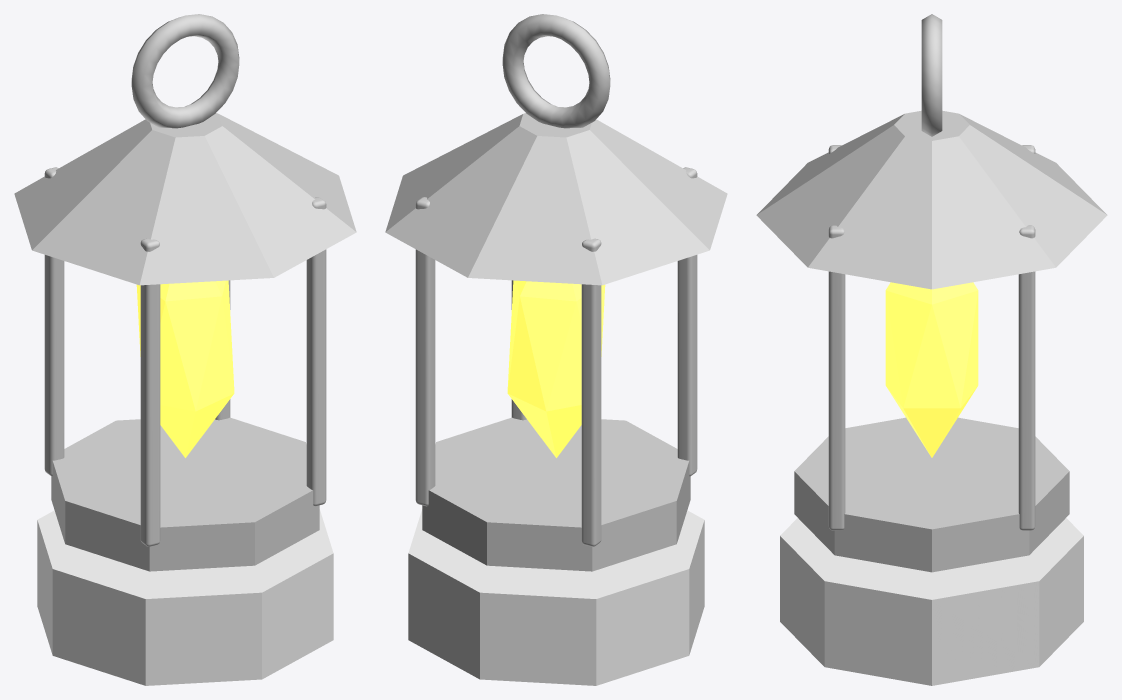
File: AS_25_Lantern_Ember.glb
3 views of the same model, side by side, from view 1: azimuth 30°, elevation 25°; view 2: azimuth 150°, elevation 25°; view 3: azimuth 270°, elevation 25° (orthographic).
Parts seen in each view (by area): view 1: AS_25_Lantern_Ember__lantern roof, AS_25_Lantern_Ember__foot, AS_25_Lantern_Ember__base, AS_25_Lantern_Ember__ember crystal, AS_25_Lantern_Ember__carry loop, AS_25_Lantern_Ember__frame.001, AS_25_Lantern_Ember__frame.003, AS_25_Lantern_Ember__frame.002; view 2: AS_25_Lantern_Ember__lantern roof, AS_25_Lantern_Ember__foot, AS_25_Lantern_Ember__base, AS_25_Lantern_Ember__ember crystal, AS_25_Lantern_Ember__carry loop, AS_25_Lantern_Ember__frame.002, AS_25_Lantern_Ember__frame, AS_25_Lantern_Ember__frame.001; view 3: AS_25_Lantern_Ember__lantern roof, AS_25_Lantern_Ember__foot, AS_25_Lantern_Ember__base, AS_25_Lantern_Ember__ember crystal, AS_25_Lantern_Ember__frame.003, AS_25_Lantern_Ember__frame, AS_25_Lantern_Ember__carry loop.
Part boxes in pixels (x1,y1,x2,y2): AS_25_Lantern_Ember__lantern roof: (14,107,356,285); AS_25_Lantern_Ember__foot: (37,509,333,685); AS_25_Lantern_Ember__base: (51,417,319,571); AS_25_Lantern_Ember__ember crystal: (136,280,234,457); AS_25_Lantern_Ember__carry loop: (131,14,239,128); AS_25_Lantern_Ember__frame.001: (140,238,160,546); AS_25_Lantern_Ember__frame.003: (306,197,326,506); AS_25_Lantern_Ember__frame.002: (44,167,64,476); AS_25_Lantern_Ember__lantern roof: (385,107,727,285); AS_25_Lantern_Ember__foot: (408,509,704,685); AS_25_Lantern_Ember__base: (422,417,690,571); AS_25_Lantern_Ember__ember crystal: (507,280,605,457); AS_25_Lantern_Ember__carry loop: (502,14,610,128); AS_25_Lantern_Ember__frame.002: (581,238,601,546); AS_25_Lantern_Ember__frame: (415,197,435,506); AS_25_Lantern_Ember__frame.001: (677,167,697,476); AS_25_Lantern_Ember__lantern roof: (756,110,1107,289); AS_25_Lantern_Ember__foot: (780,518,1083,685); AS_25_Lantern_Ember__base: (794,417,1069,572); AS_25_Lantern_Ember__ember crystal: (885,282,978,457); AS_25_Lantern_Ember__frame.003: (828,225,845,530); AS_25_Lantern_Ember__frame: (1018,225,1035,530); AS_25_Lantern_Ember__carry loop: (921,14,942,136).
Size of the model in its own units: 0.74 by 1.4 by 0.74.
